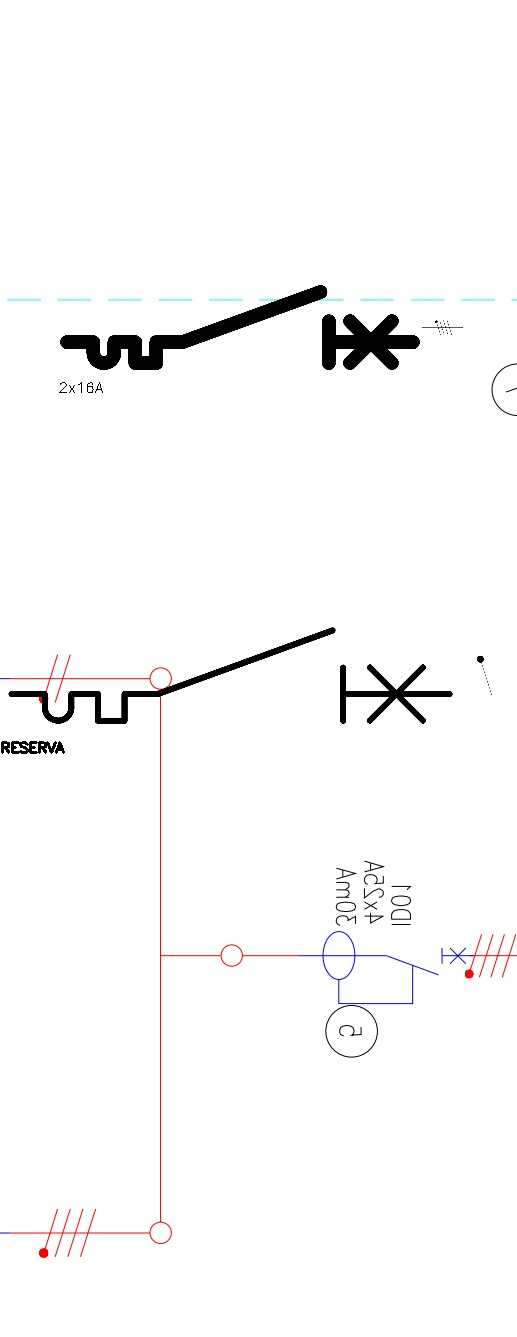interruptor_termomagnetico: (0, 619, 461, 732), (58, 283, 421, 372)
